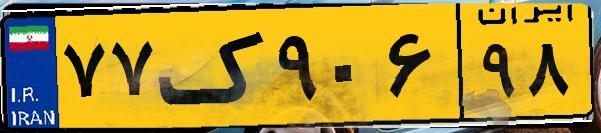0: (330, 28, 385, 110)
6: (385, 28, 445, 110)
7: (57, 26, 110, 100), (110, 28, 158, 98)
8: (525, 38, 570, 115)
9: (270, 28, 330, 110), (475, 38, 525, 113)
ک: (158, 12, 270, 120)
